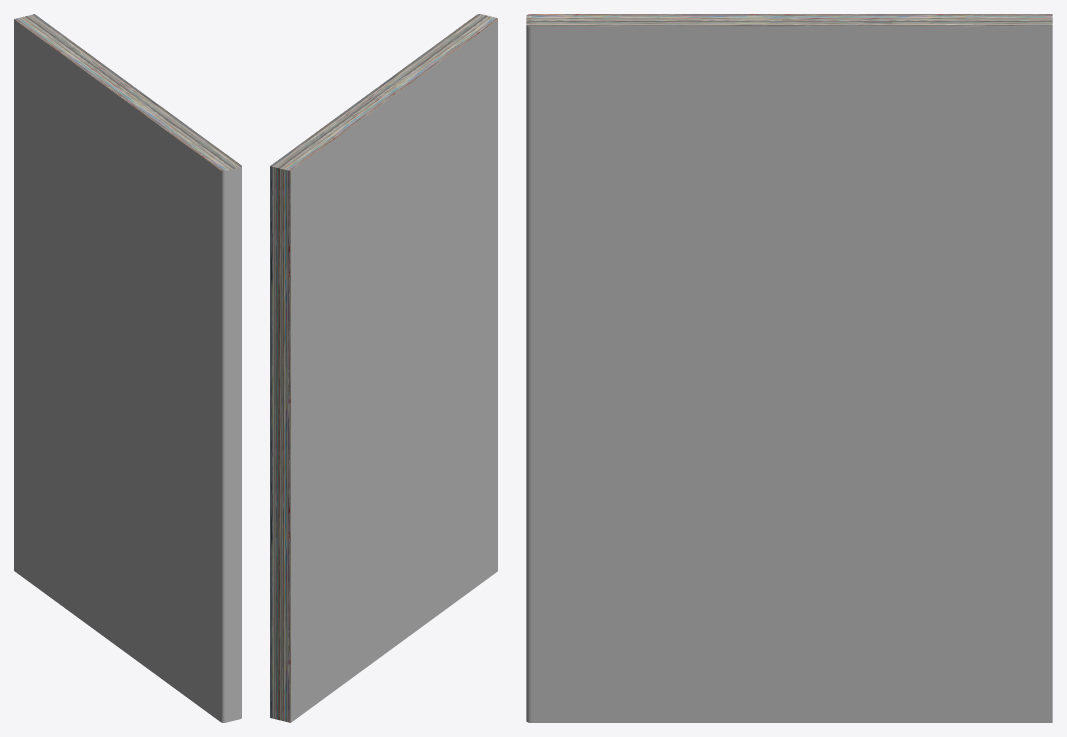
File: NGM MAGAZINES.fbx
3 renders of one model, left to right at view 1: azimuth 30°, elevation 25°; view 2: azimuth 150°, elevation 25°; view 3: azimuth 270°, elevation 25°, orthographic. The views are drawn at different scales.
Visible parts, largest first — view 1: NGM.010; view 2: NGM.010; view 3: NGM.010.
Part boxes in pixels (bbox=[...]): NGM.010: bbox=[14, 14, 241, 722]; NGM.010: bbox=[270, 14, 497, 722]; NGM.010: bbox=[526, 14, 1052, 722].
Bounding box in the file's own units: 1 × 25.4 × 17.4.
